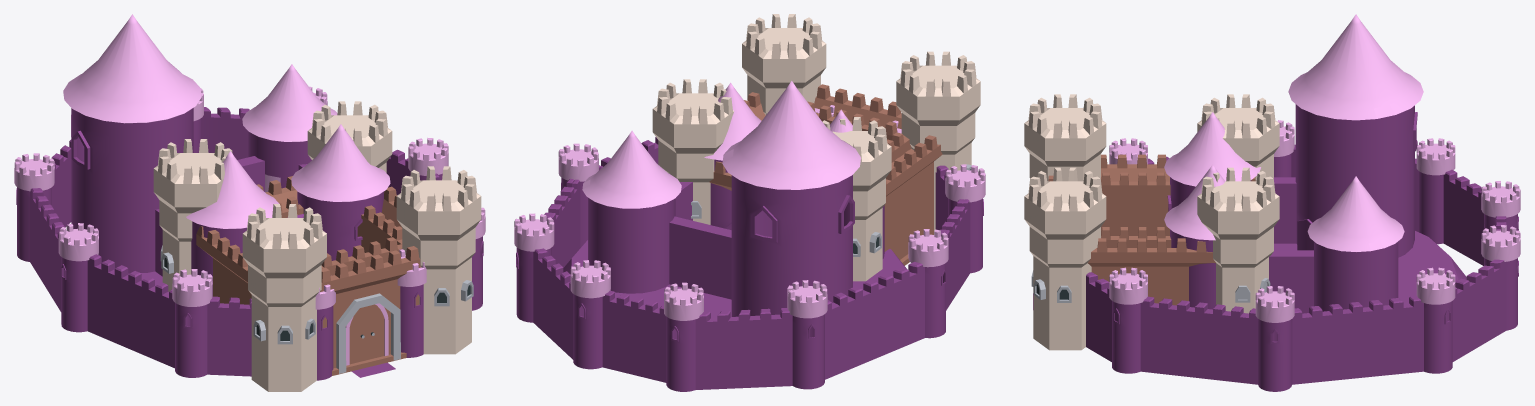
The model's file is 2 Castles.fbx.
3 renders of one model, left to right at view 1: azimuth 30°, elevation 25°; view 2: azimuth 150°, elevation 25°; view 3: azimuth 270°, elevation 25°, orthographic. The views are drawn at different scales.
Visible parts, largest first — view 1: Castle, Castle2; view 2: Castle, Castle2; view 3: Castle, Castle2.
Boxes of the visible parts, bbox=[...] form: Castle: bbox=[14, 14, 485, 380]; Castle2: bbox=[153, 101, 481, 391]; Castle: bbox=[514, 81, 985, 391]; Castle2: bbox=[652, 14, 980, 281]; Castle: bbox=[1033, 14, 1520, 391]; Castle2: bbox=[1024, 94, 1279, 350].
Size of the model in its own units: 4332 by 2775 by 4988.
Materials: 1 (1 with a texture image).
